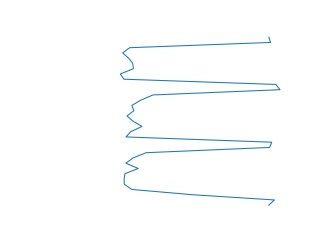majorRiverChannelBar: (117, 37, 282, 206)
